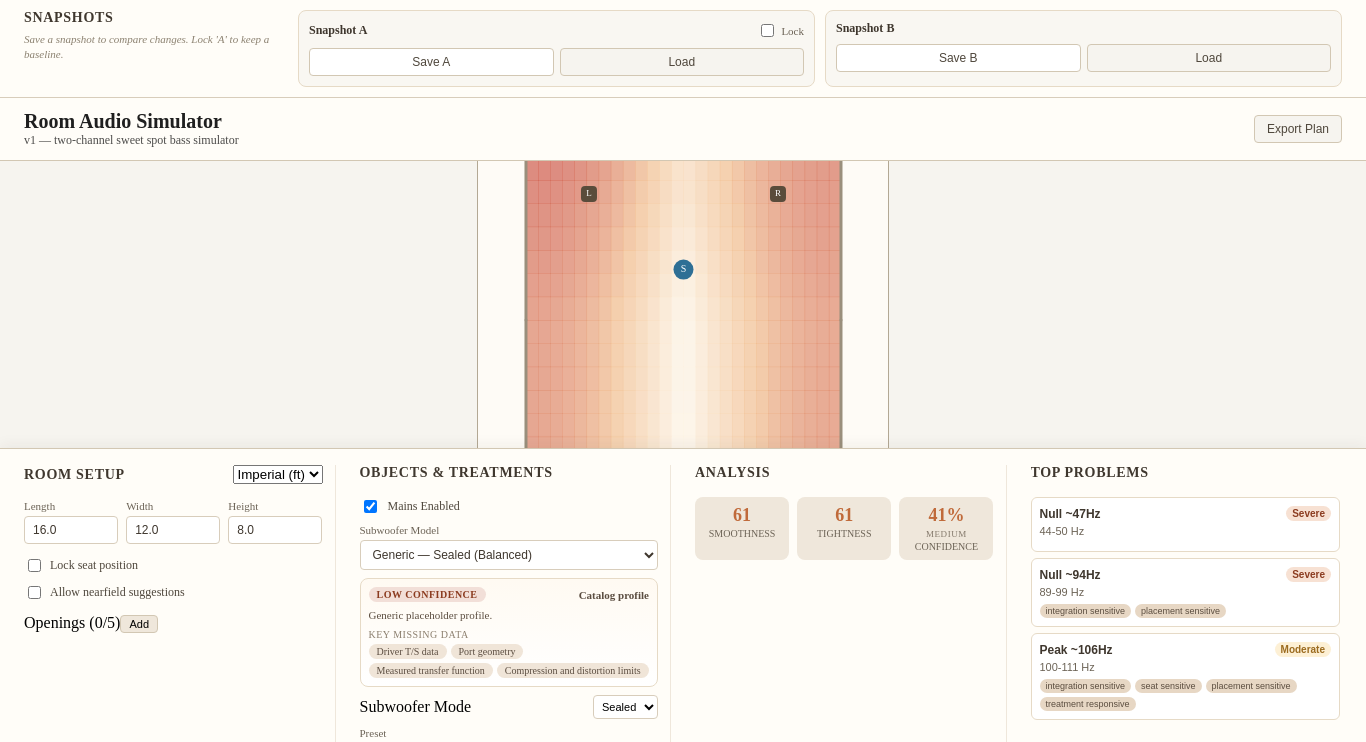
Test: App subwoofer mode switching › normalizes dependent subwoofer fields across sealed/ported UI mode changes
The image size is (1366, 742).
expect the field labelled "Port Direction" is not shown: met
Select "Ported" in the dropdown named "Subwoofer Mode" at (626, 707), box [593,695,658,719]
(page scrolled)
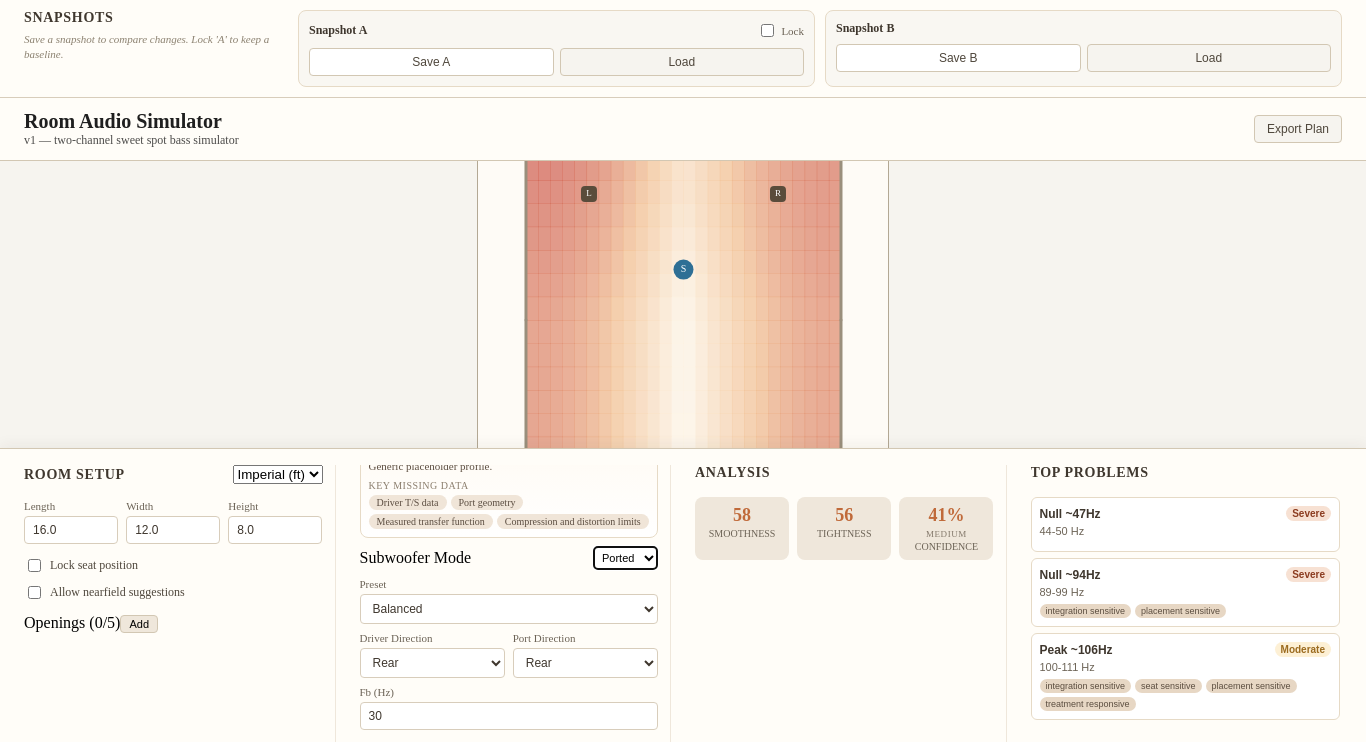
expect the dropdown labelled "Port Direction" shows "Rear": met, box [513,648,658,678]
expect the number field named "Subwoofer Frequency (Hz)" holds "30": met, box [360,702,658,730]
Select "Big & Bold" in the dropdown named "Subwoofer Preset" at (509, 609), box [360,594,658,624]
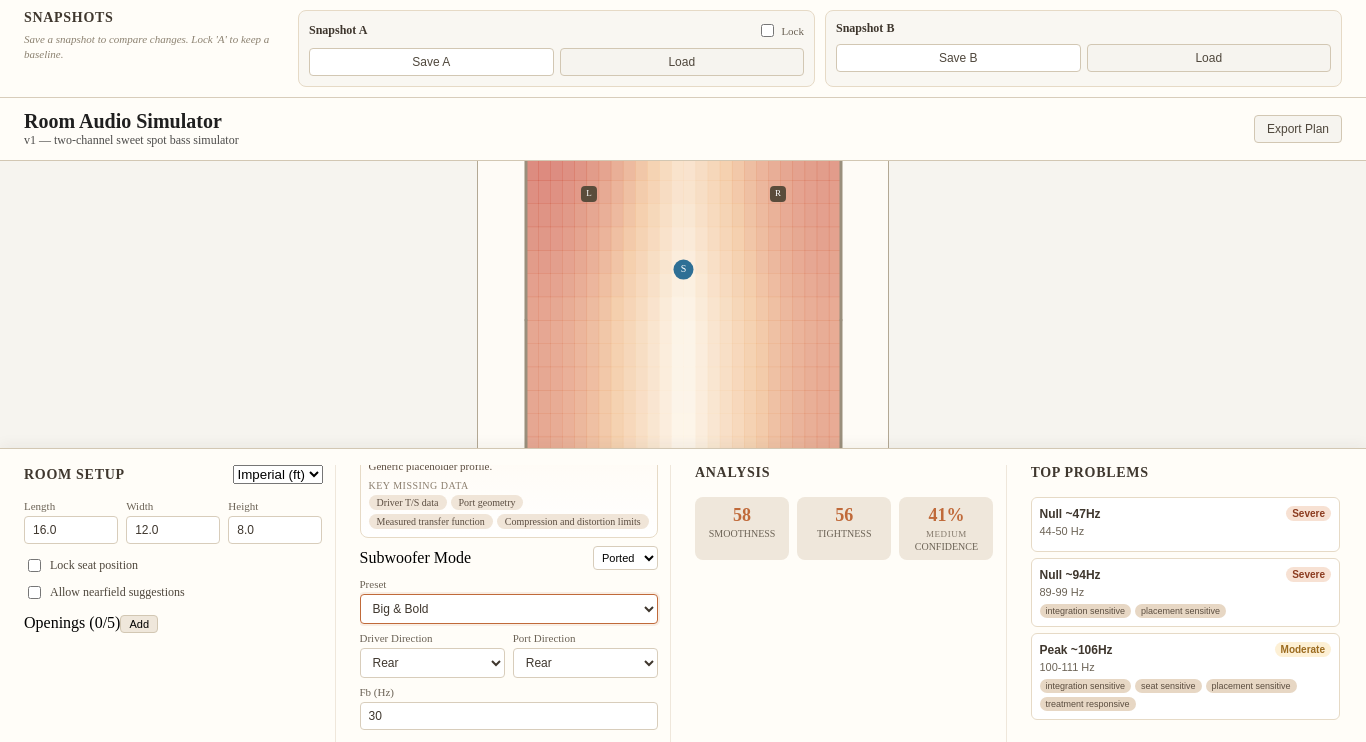
Select "Sealed" in the dropdown named "Subwoofer Mode" at (626, 558), box [593,546,658,570]
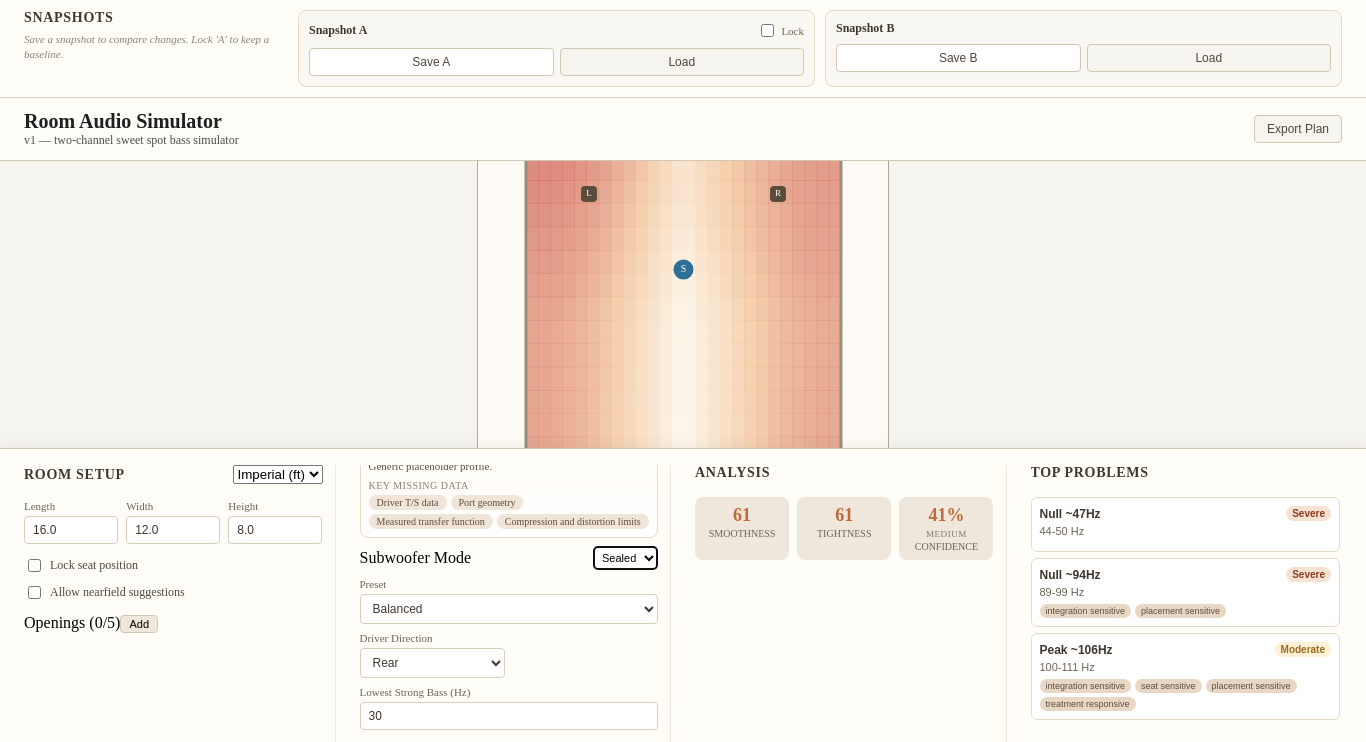
expect the number field named "Subwoofer Frequency (Hz)" holds "30": met, box [360,702,658,730]
expect the label labelled "Port Direction" is gone: met
